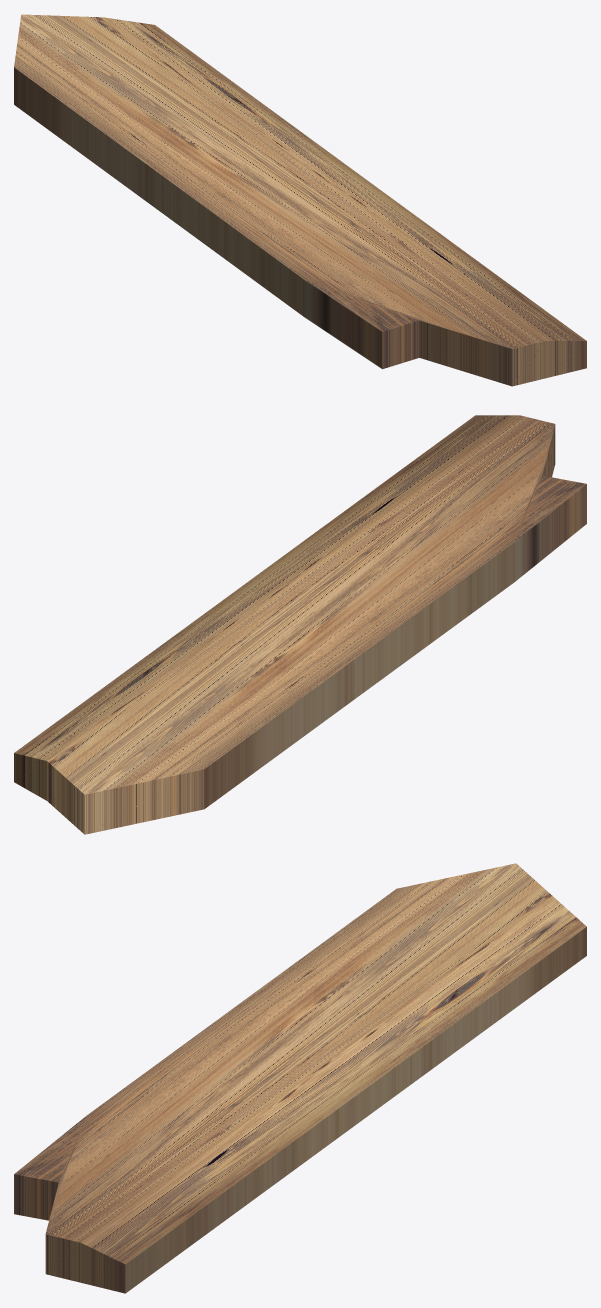
Rendered from plank5.fbx.
The picture shows the model from 3 angles, top to bottom: view 1: azimuth 30°, elevation 25°; view 2: azimuth 150°, elevation 25°; view 3: azimuth 330°, elevation 25°; orthographic projection. The views are drawn at different scales.
Parts seen in each view (by area): view 1: Plane.024; view 2: Plane.024; view 3: Plane.024.
Boxes of the visible parts, <box> form: Plane.024: <box>14,14,586,386</box>; Plane.024: <box>14,415,586,834</box>; Plane.024: <box>14,863,586,1293</box>.
Size of the model in its own units: 55.19 by 12.34 by 279.
